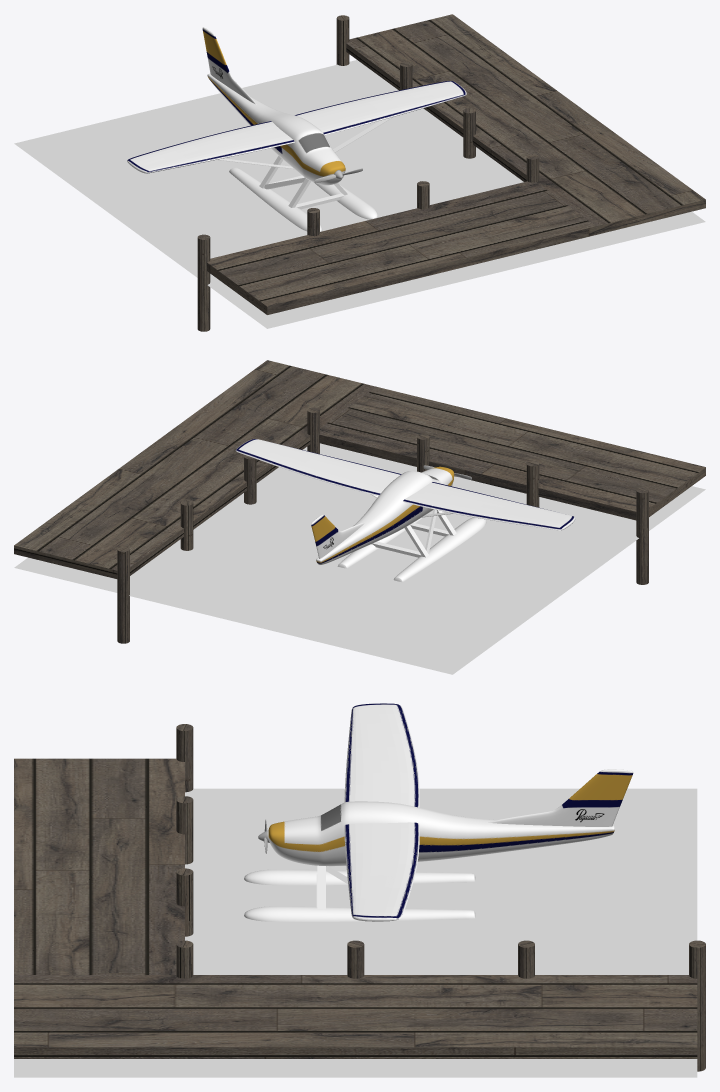
The model's file is Anexo_Pegasos.fbx.
3 views of the same model, one above another, from view 1: azimuth 30°, elevation 25°; view 2: azimuth 150°, elevation 25°; view 3: azimuth 270°, elevation 25° (orthographic). The views are drawn at different scales.
Visible parts, largest first — view 1: Madera, Agua, AlaAvioneta, Avioneta, Pilones, BaseVioneta, ColaAvioneta.001, SostenAvion, BaseAla; view 2: Agua, Madera, AlaAvioneta, Pilones, Avioneta, BaseVioneta, ColaAvioneta.001, SostenAvion; view 3: Madera, Agua, AlaAvioneta, Avioneta, Pilones, BaseVioneta, ColaAvioneta.001.
Part boxes in pixels (x1,y1,x2,y2): Madera: (207,14,705,314); Agua: (14,60,705,328); AlaAvioneta: (127,81,466,173); Avioneta: (207,73,345,185); Pilones: (197,15,539,331); BaseVioneta: (229,167,377,231); ColaAvioneta.001: (202,27,256,104); SostenAvion: (259,155,347,207); BaseAla: (217,117,393,169); Agua: (14,443,705,674); Madera: (14,360,705,578); AlaAvioneta: (235,439,575,530); Pilones: (117,407,648,643); Avioneta: (316,466,454,564); BaseVioneta: (337,514,486,582); ColaAvioneta.001: (311,514,364,558); SostenAvion: (371,509,456,557); Madera: (14,758,697,1058); Agua: (14,788,697,1077); AlaAvioneta: (344,703,419,921); Avioneta: (268,801,614,866); Pilones: (176,724,705,1071); BaseVioneta: (244,869,475,921); ColaAvioneta.001: (488,769,633,826).
Size of the model in its own units: 162 by 49.21 by 162.
